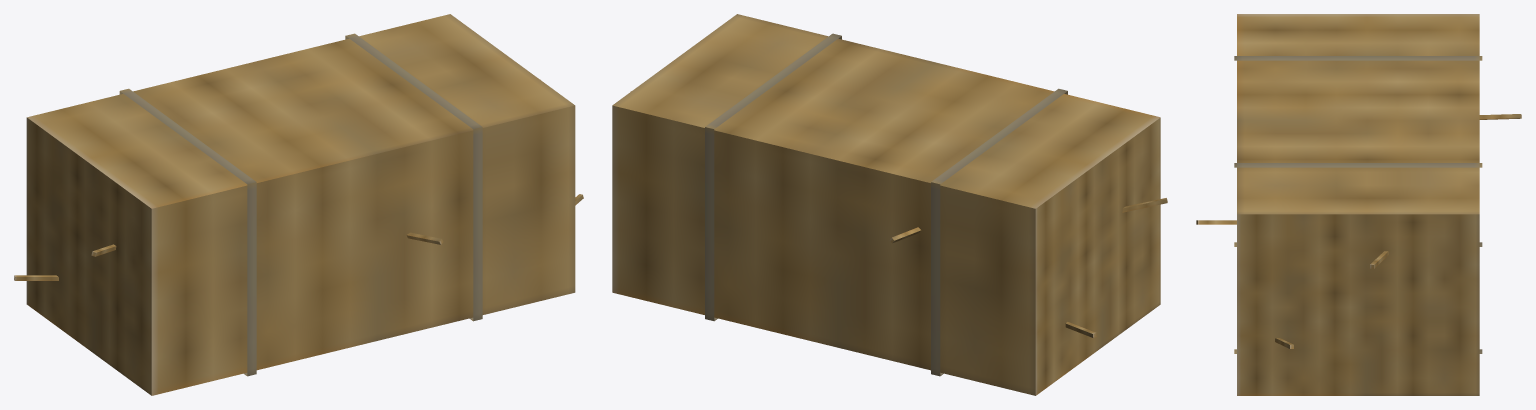
File: hay_bale.obj
3 renders of one model, left to right at view 1: azimuth 30°, elevation 25°; view 2: azimuth 150°, elevation 25°; view 3: azimuth 270°, elevation 25°, orthographic. The views are drawn at different scales.
Visible parts, largest first — view 1: hay_bale; view 2: hay_bale; view 3: hay_bale.
Boxes of the visible parts, bbox=[...] form: hay_bale: bbox=[14, 14, 583, 395]; hay_bale: bbox=[612, 14, 1167, 395]; hay_bale: bbox=[1196, 14, 1521, 395].
Size of the model in its own units: 1.05 by 0.39 by 0.6168.
1 material, 1 textured.
